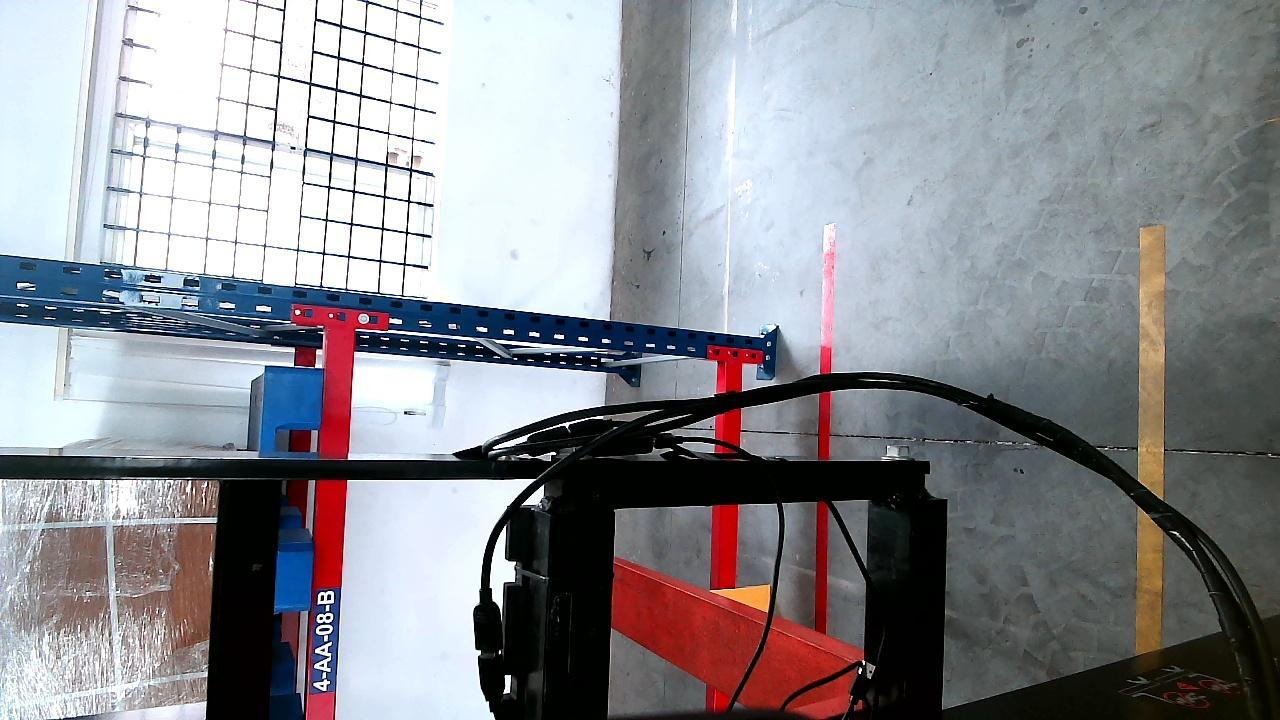red_line: (812, 222, 838, 633)
yellow_line: (1136, 214, 1167, 653)
